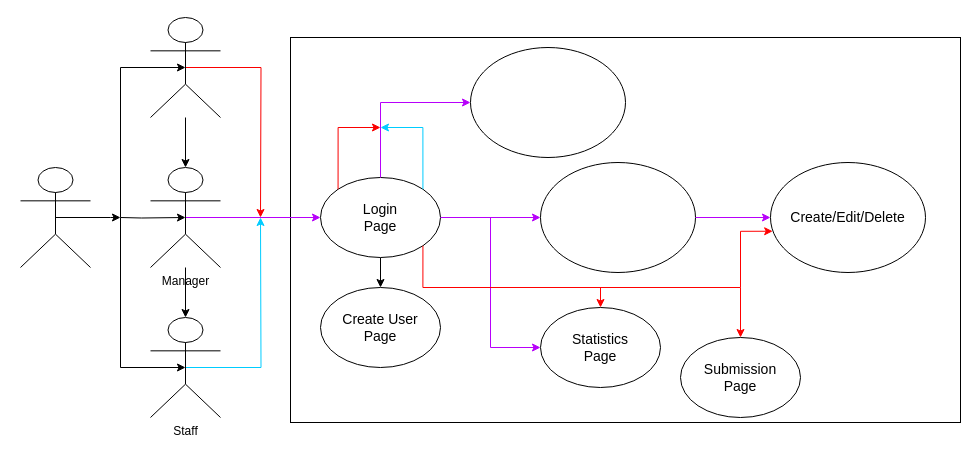
Image size: 978x456. Some labels were removed from this diagram. Here are the shapes that lost their labels. From the top down, the centre of each, then its label:
the point at 185,67: Coordinator
the point at 548,102: StaffSubmission Page
the point at 55,217: Administration
the point at 618,217: Department/ Category/Submission Page
